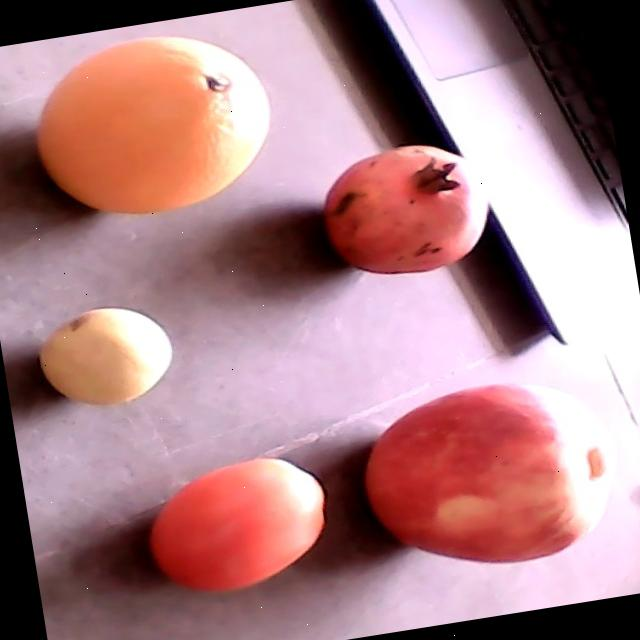apple: (366, 383, 615, 563)
lemon: (40, 310, 174, 403)
orange: (37, 37, 270, 217)
pomegranate: (323, 144, 489, 275)
tomato: (154, 456, 326, 594)
